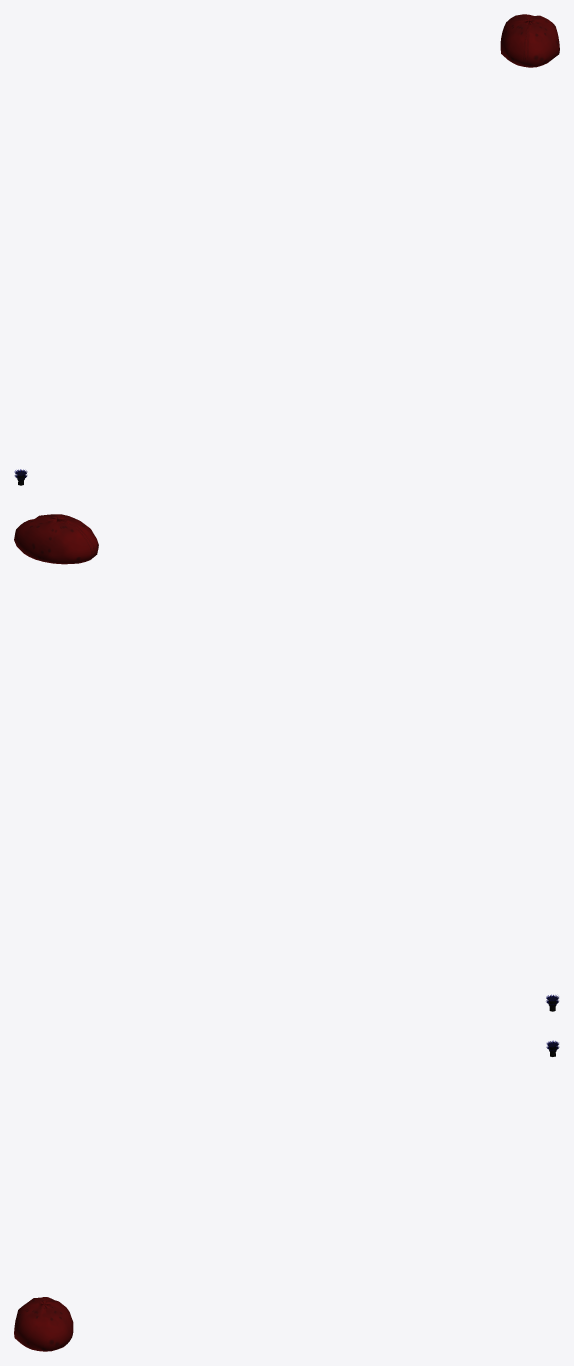
File: zoa.glb
3 renders of one model, top to bottom at view 1: azimuth 90°, elevation 25°; view 2: azimuth 150°, elevation 25°; view 3: azimuth 270°, elevation 25°, orthographic. The views are drawn at different scales.
Visible parts, largest first — view 1: Rubble; view 2: Rubble; view 3: Rubble.
Part boxes in pixels (<box>): Rubble: <box>500,14,559,67</box>; Rubble: <box>14,514,98,564</box>; Rubble: <box>14,1297,73,1351</box>.
Size of the model in its own units: 66.76 by 8.97 by 40.81.
Materials: 4 (4 with a texture image).
